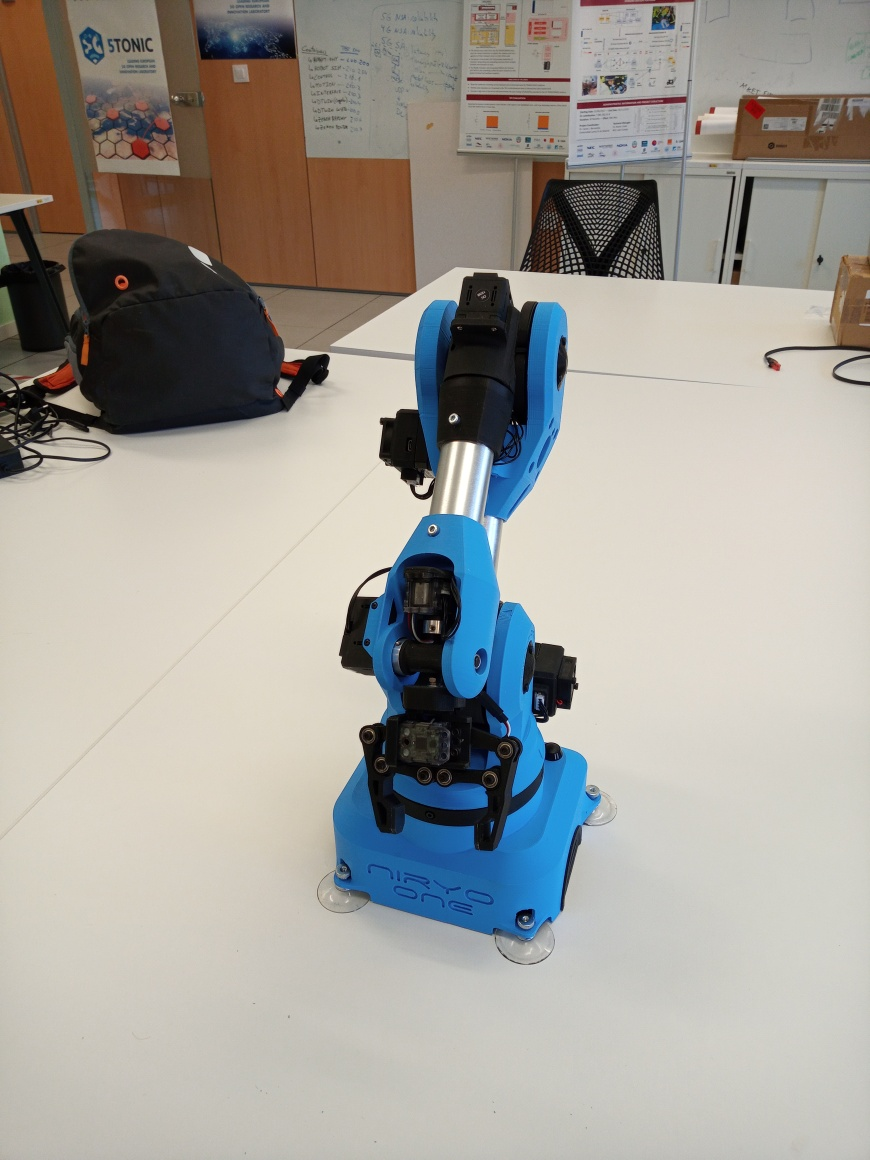robot: (313, 269, 622, 967)
